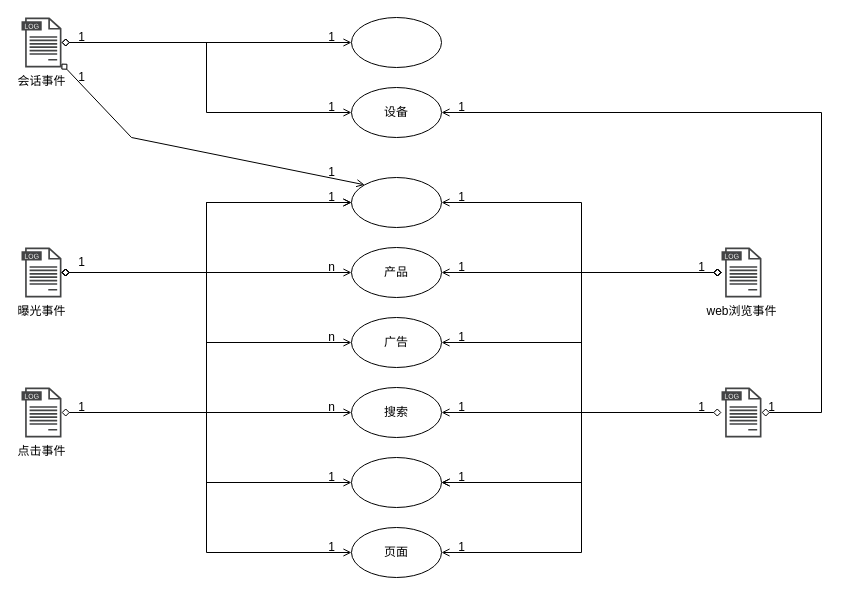
The diagram is 848 pixels wide and 595 high, and some of its shapes have lost their labels. The centre of each missing label's shape, as x and y in pixels:
"app浏览事件" goes at point 741,412.
"归因" goes at point 396,42.
"推荐" goes at point 396,482.
"用户" goes at point 396,202.
